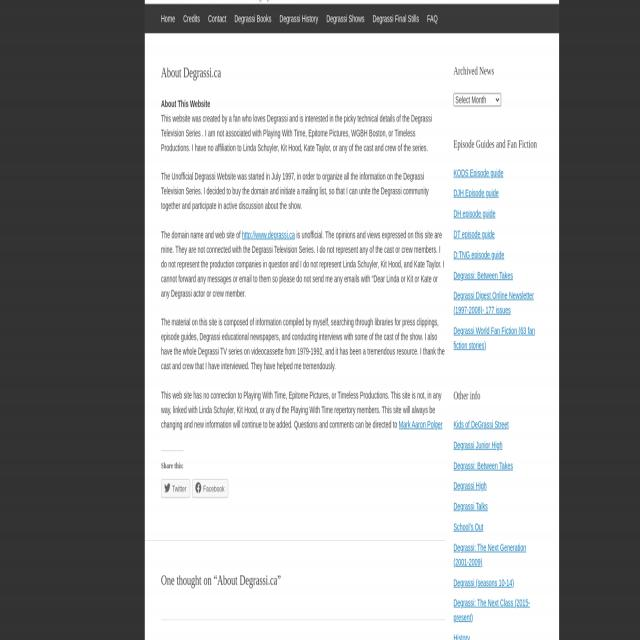button: (368, 1, 424, 31), (322, 1, 369, 31), (230, 1, 276, 31), (276, 1, 322, 31), (204, 1, 230, 31), (179, 1, 204, 31), (157, 1, 179, 31), (192, 476, 228, 494), (423, 1, 442, 31), (162, 476, 190, 494)
field: (454, 92, 502, 105)
